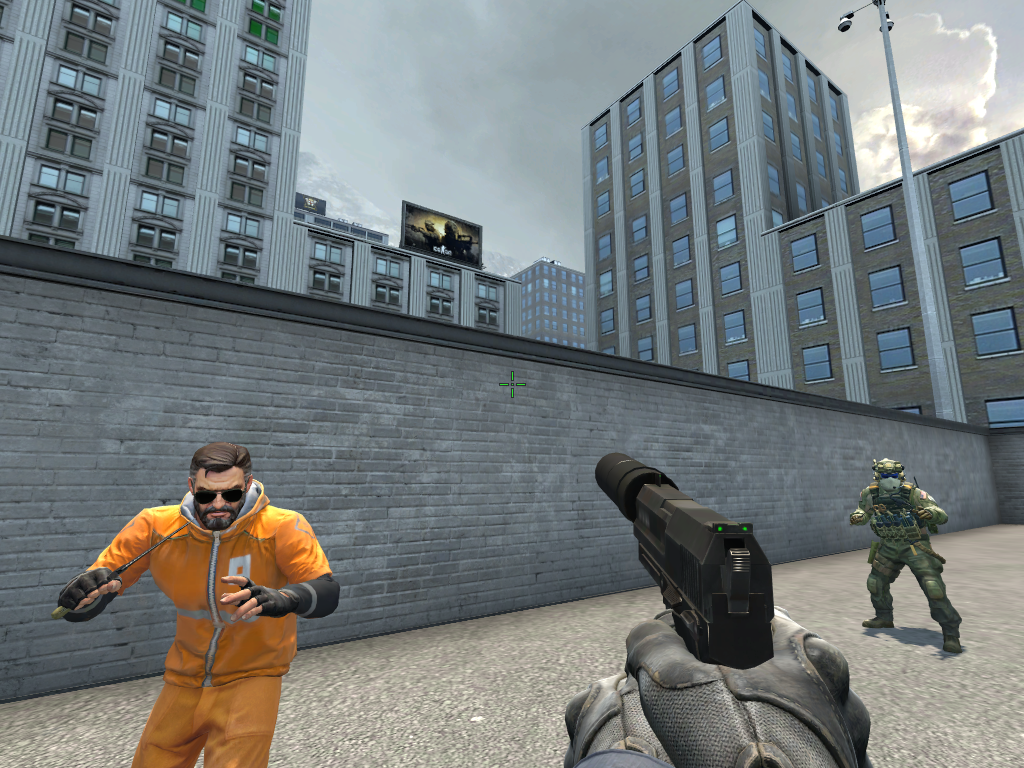ct head: (873, 458, 906, 492)
tr head: (186, 439, 254, 533)
